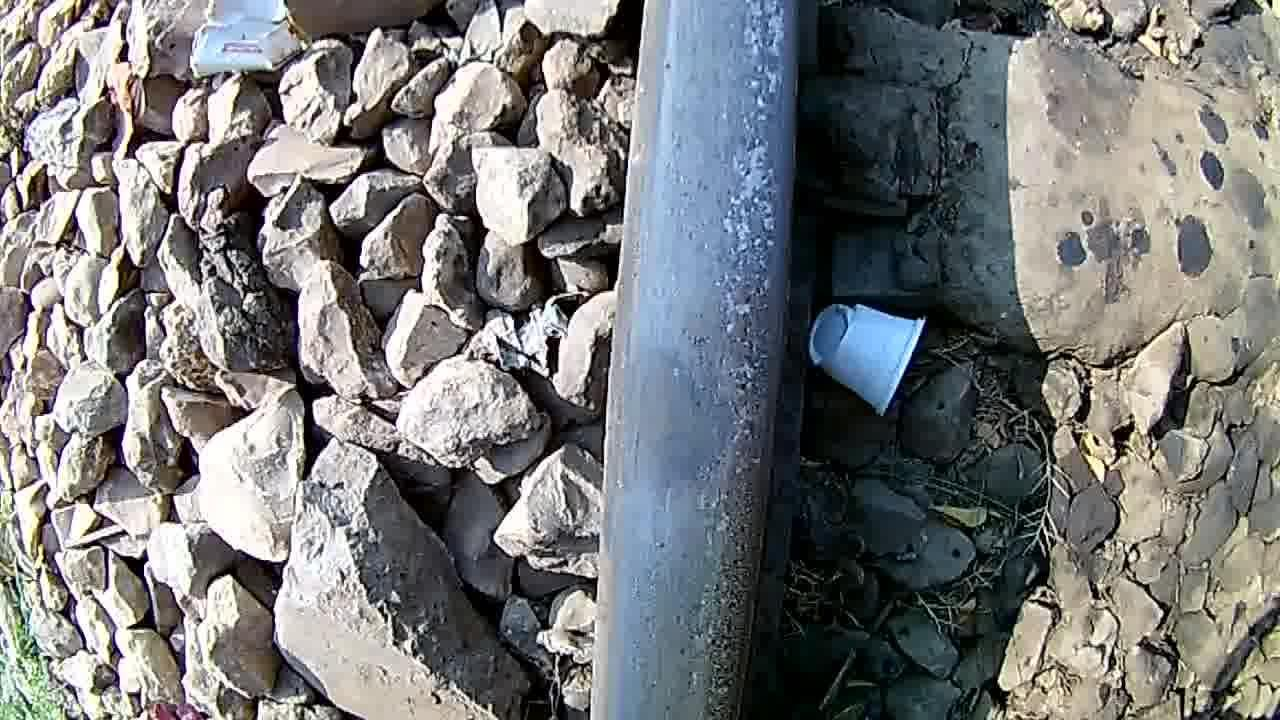crack: (600, 272, 777, 564)
